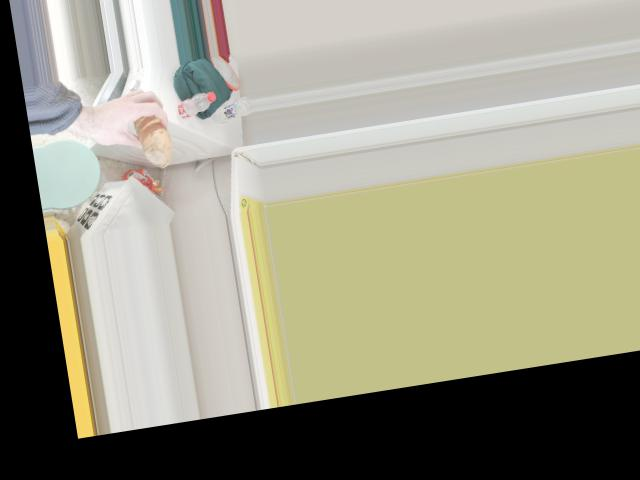sweet_potato: (124, 107, 175, 158)
